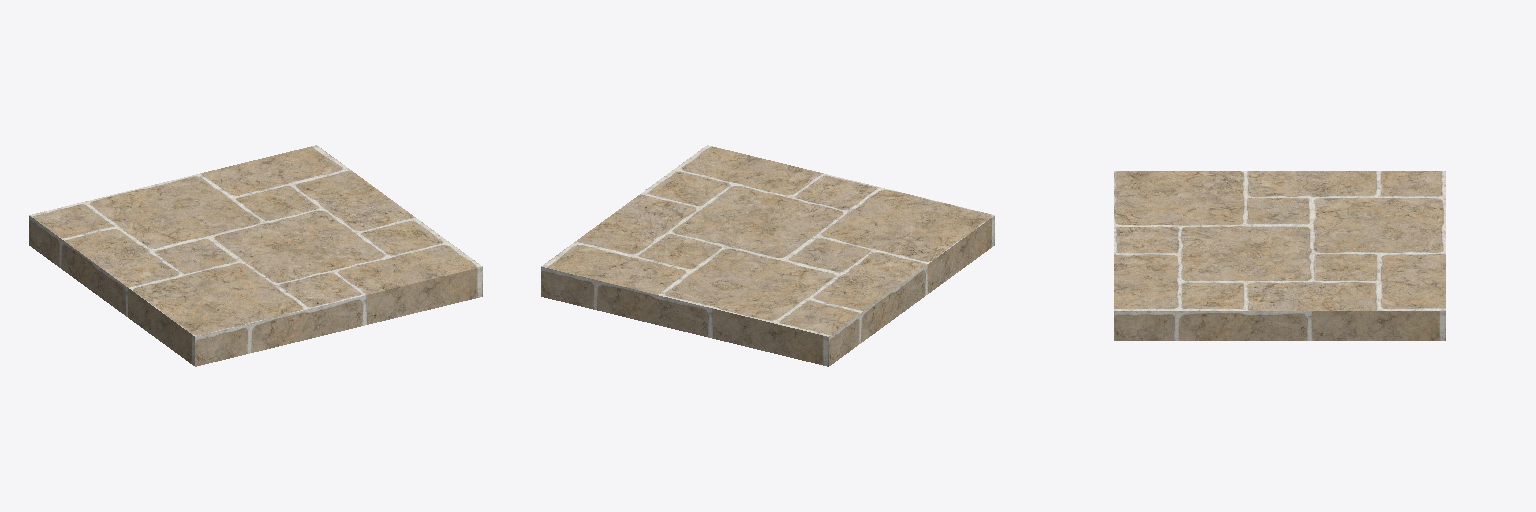
3 views of the same model, side by side, from view 1: azimuth 30°, elevation 25°; view 2: azimuth 150°, elevation 25°; view 3: azimuth 270°, elevation 25° (orthographic).
Parts seen in each view (by area): view 1: Light_tile_Cube.002; view 2: Light_tile_Cube.002; view 3: Light_tile_Cube.002.
Part boxes in pixels (left/top/right/bottom): Light_tile_Cube.002: left=29, top=145, right=482, bottom=366; Light_tile_Cube.002: left=541, top=145, right=994, bottom=366; Light_tile_Cube.002: left=1114, top=171, right=1445, bottom=340.
Bounding box in the file's own units: 2 × 0.2 × 2.
Materials: 1 (1 with a texture image).